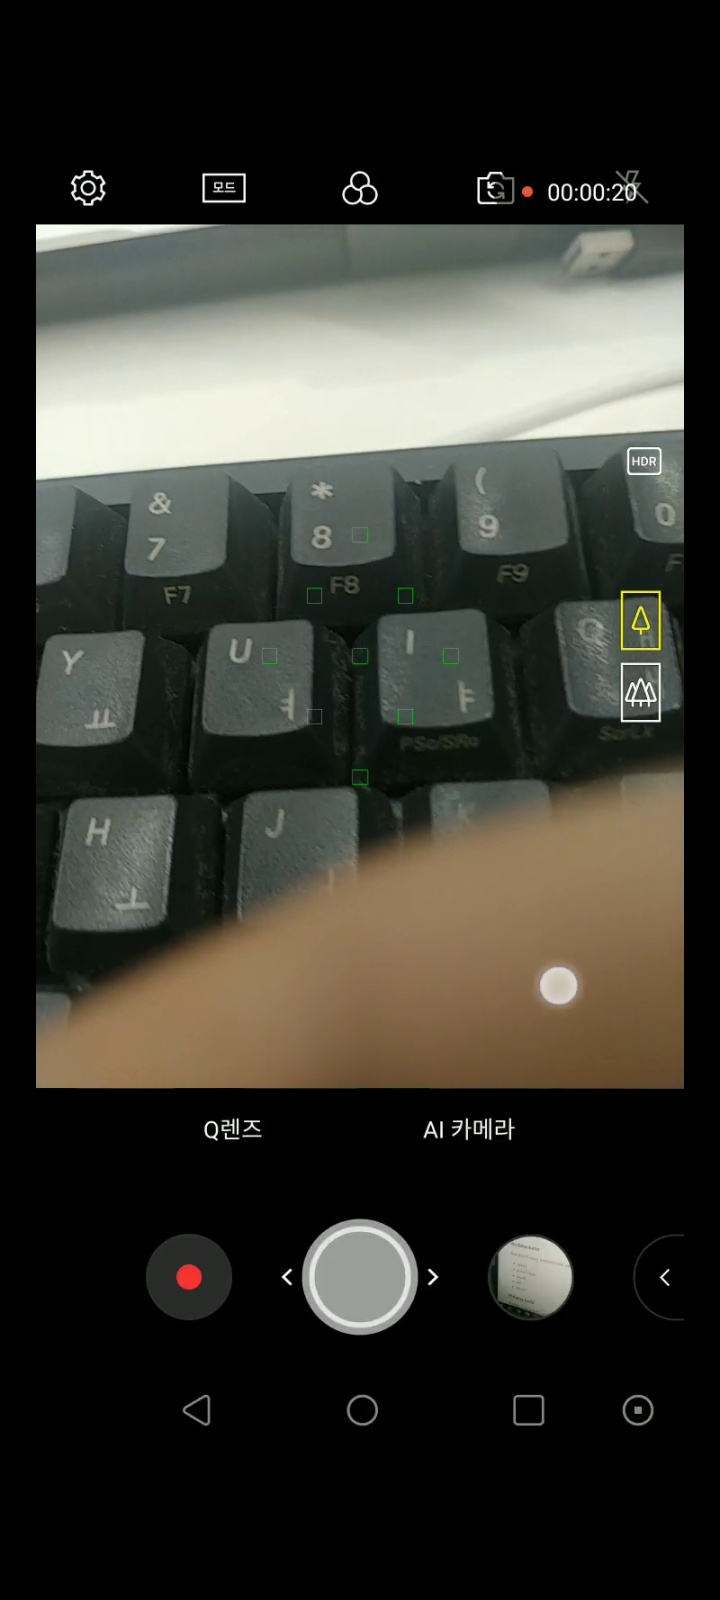Cursor: (537, 964, 582, 1009)
